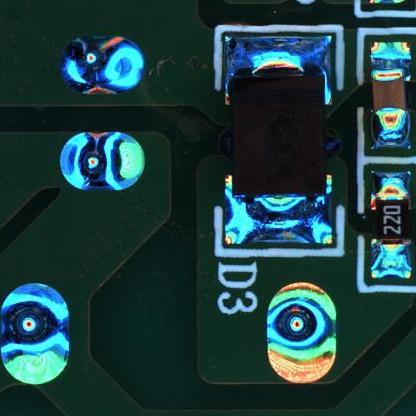spot: (261, 272, 345, 388), (51, 24, 154, 109), (48, 123, 158, 199)
